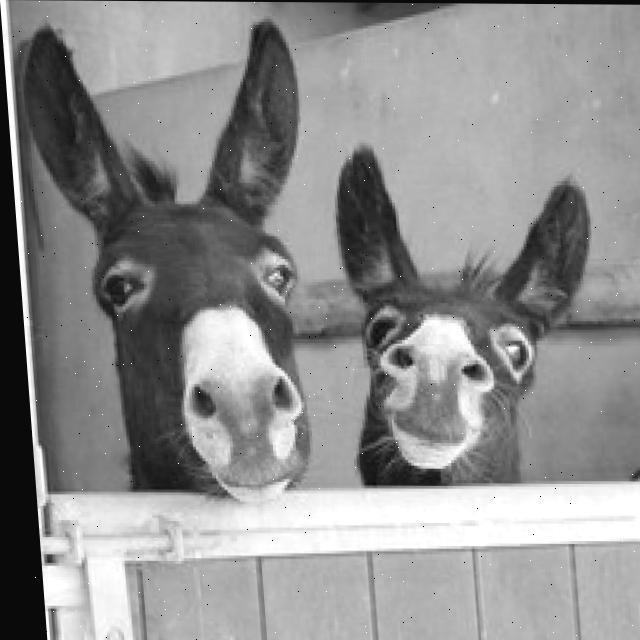Donkey: (13, 14, 329, 502), (327, 142, 610, 484)
